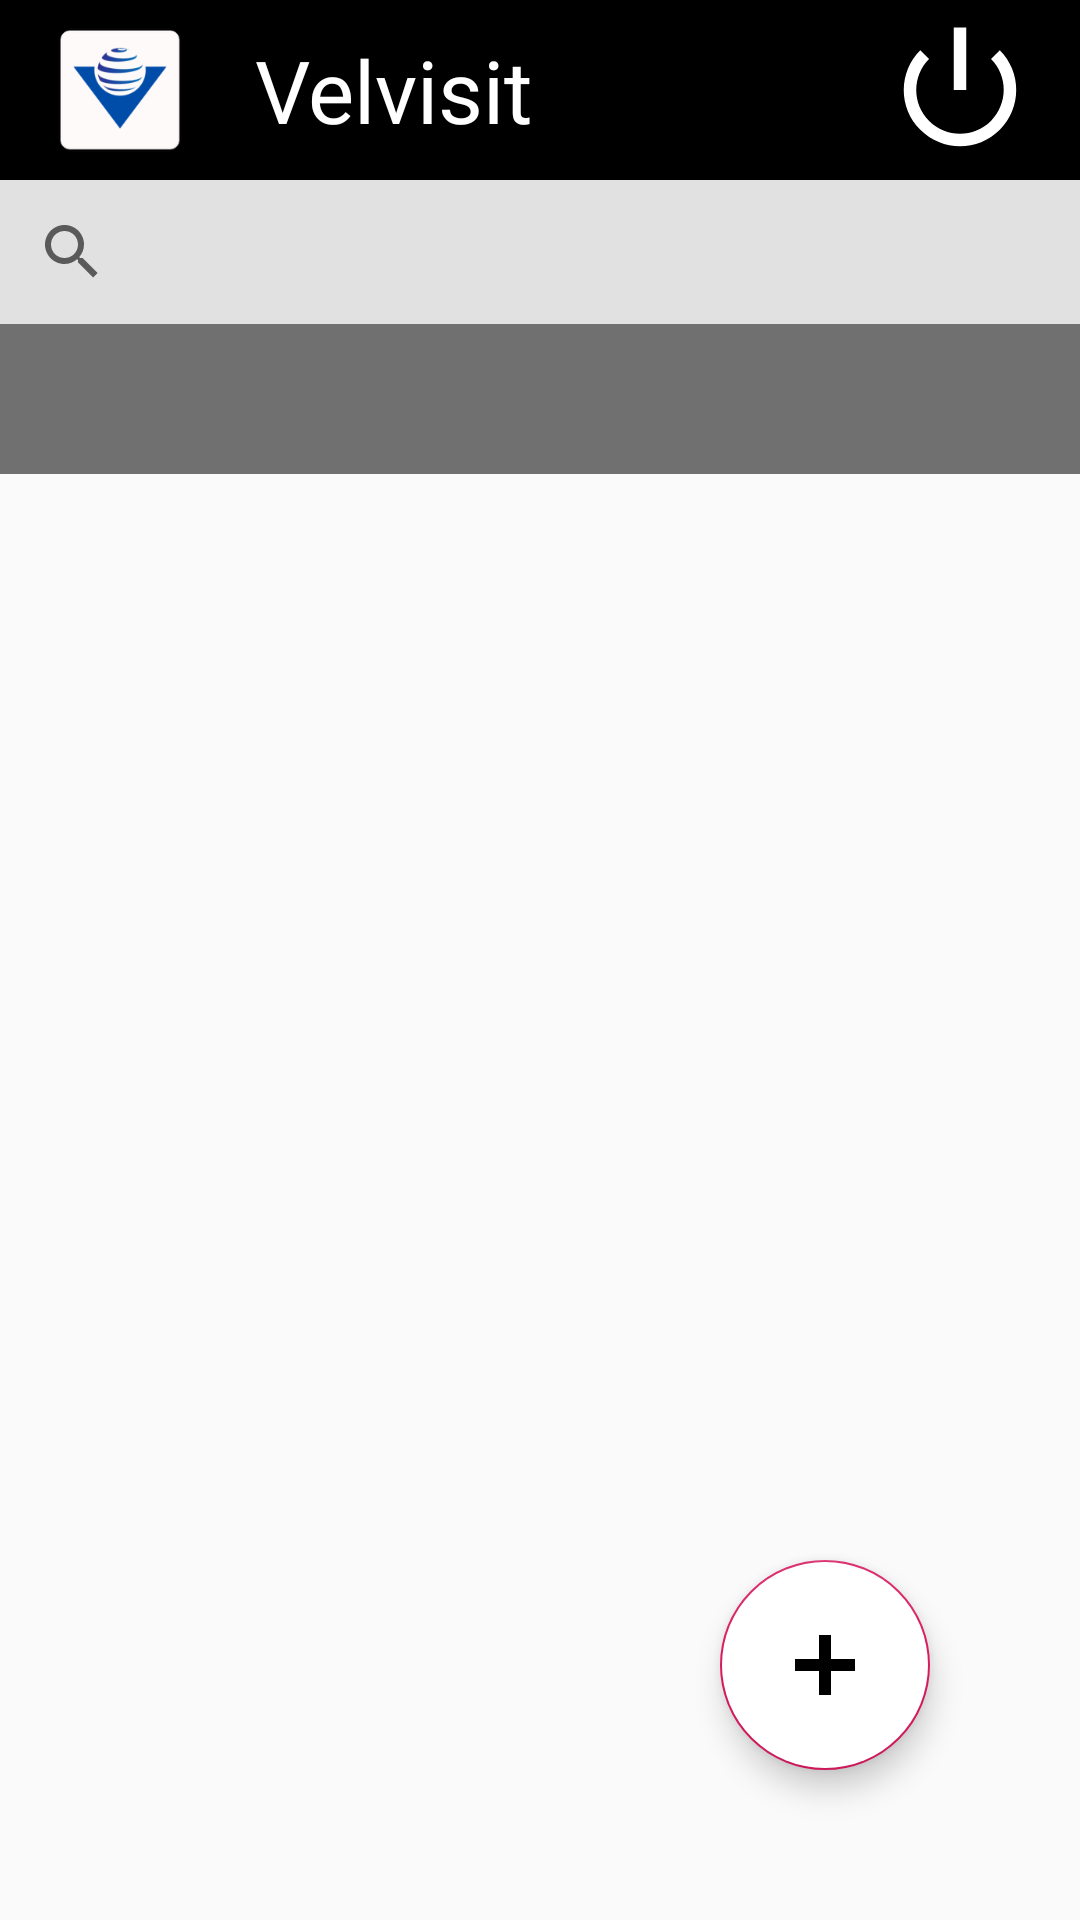

Named icons in this screenshot (1080 x 1920) and their centers, (x=x, y=y):
add drwable: (x=825, y=1665)
lock power off: (x=960, y=87)
